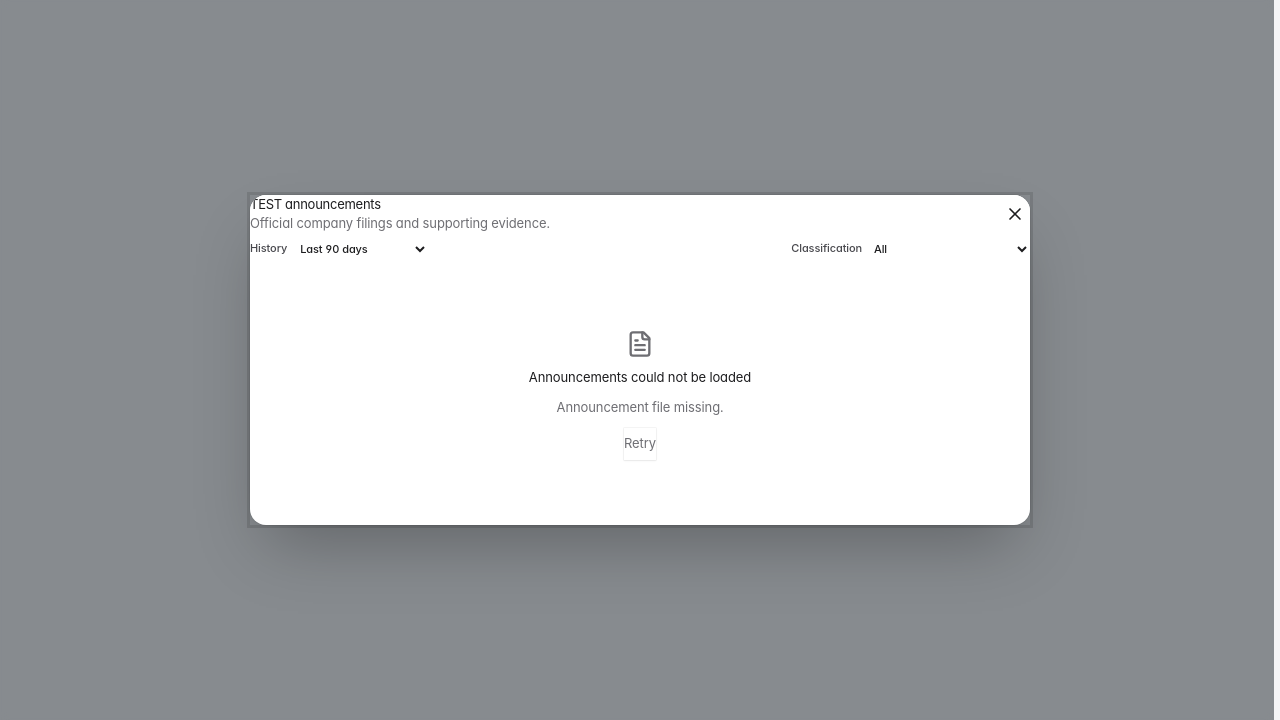
Test: shows missing-file errors and allows a deliberate retry without treating them as no filings
The width and height of the screenshot is (1280, 720).
Expected: the message shows "Announcement file missing", [556,399,723,415]
Click the button "Retry". click: (640, 444)
box: [624,428,656,460]
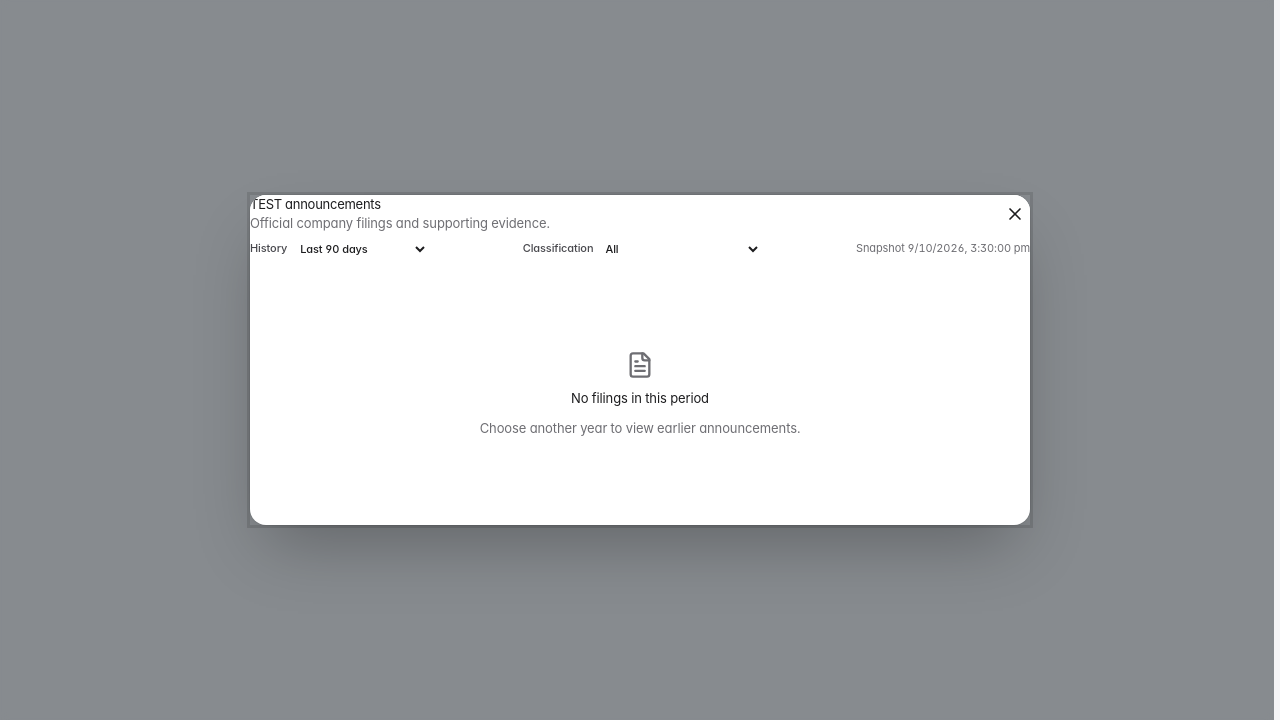
Now the heading "No filings in this period" is shown, box [571,389,709,408]
